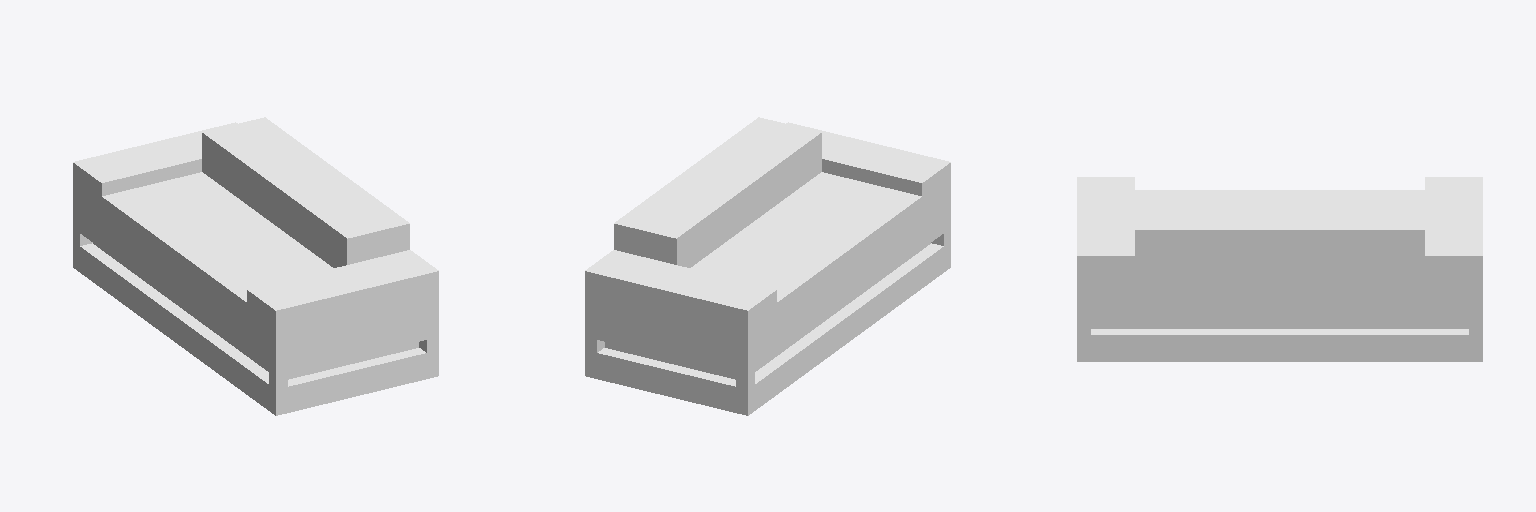
Rendered from modern-couch.obj.
3 renders of one model, left to right at view 1: azimuth 30°, elevation 25°; view 2: azimuth 150°, elevation 25°; view 3: azimuth 270°, elevation 25°, orthographic.
Parts seen in each view (by area): view 1: modern:couch; view 2: modern:couch; view 3: modern:couch.
Part boxes in pixels (left/top/right/bottom): modern:couch: left=73, top=117, right=438, bottom=415; modern:couch: left=585, top=117, right=950, bottom=415; modern:couch: left=1077, top=177, right=1482, bottom=361.
Size of the model in its own units: 13 by 10 by 28.